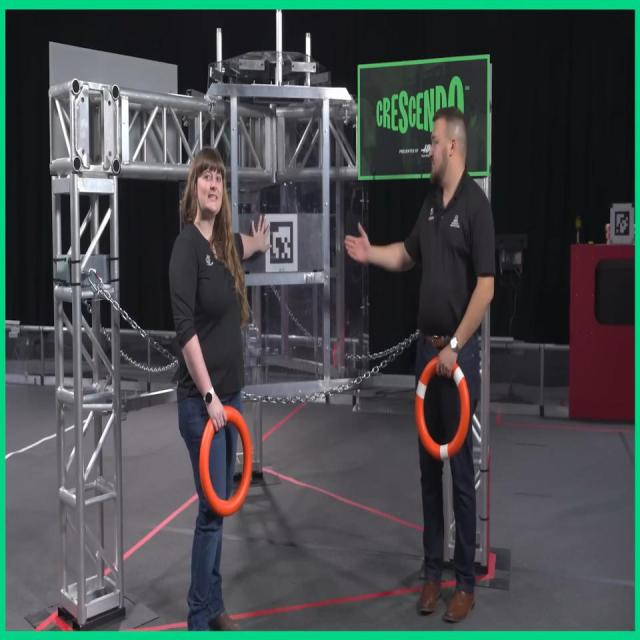note: (199, 405, 252, 515), (415, 357, 471, 460)
